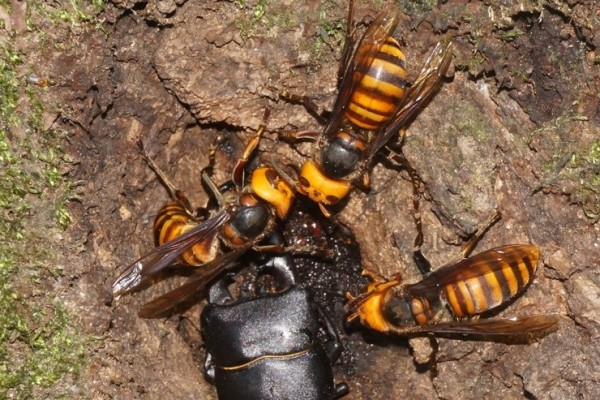asian_giant_hornet: (344, 236, 543, 348), (290, 33, 408, 217), (151, 161, 299, 278)
